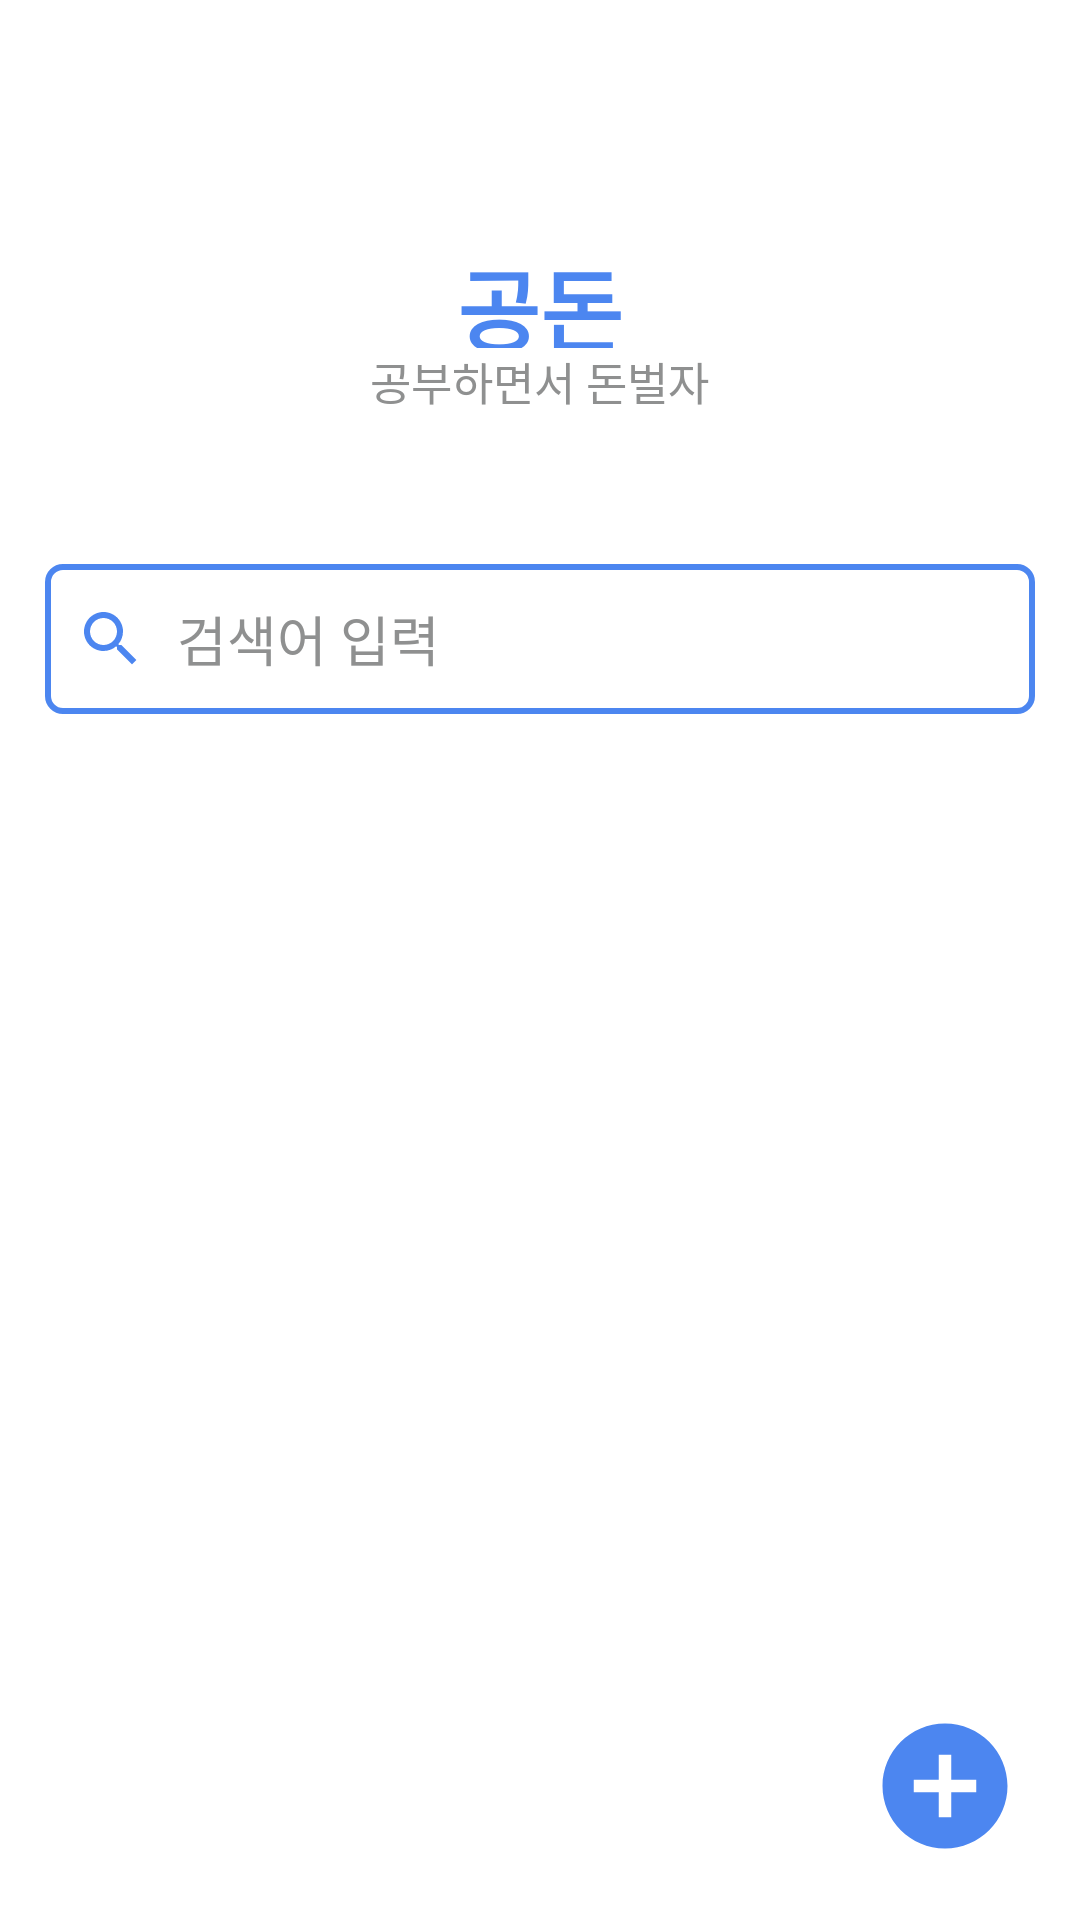

Where to tap for icons on this 1080x1920 app screen, as (x,y):
add circle: (945,1786)
